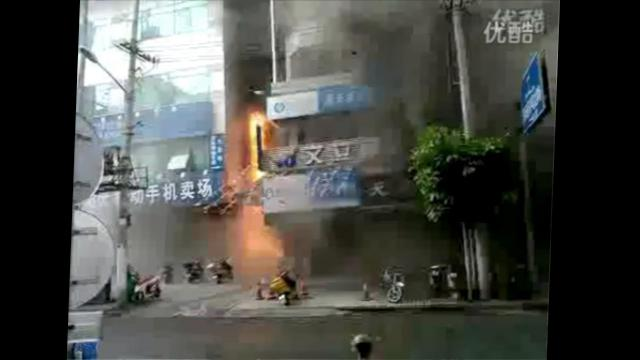fire: (249, 112, 259, 182), (258, 114, 269, 126)
